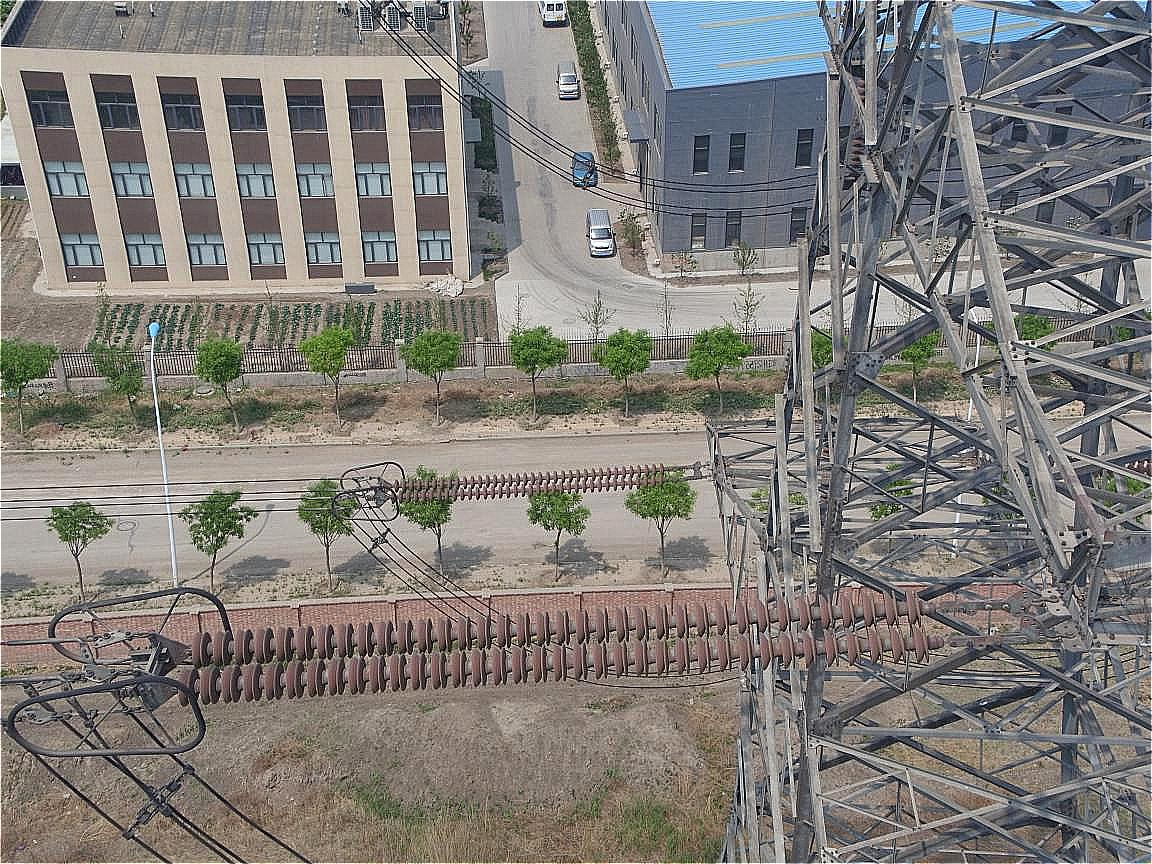insultor2: (137, 578, 948, 701)
